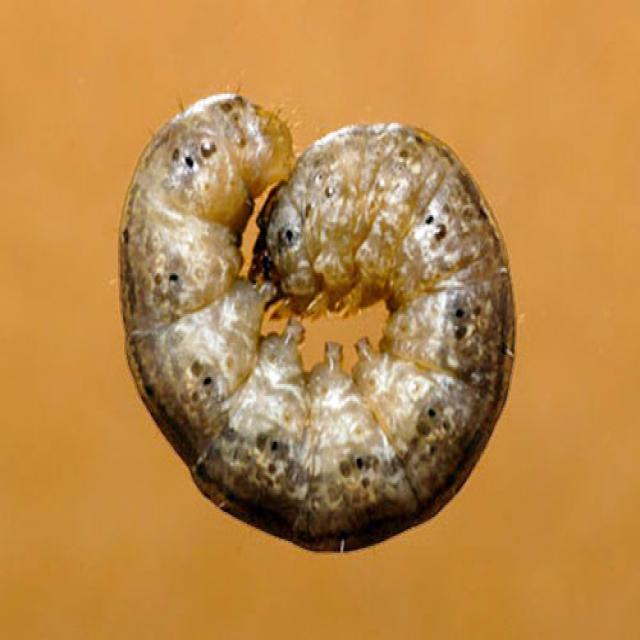worm: (118, 90, 518, 554)
